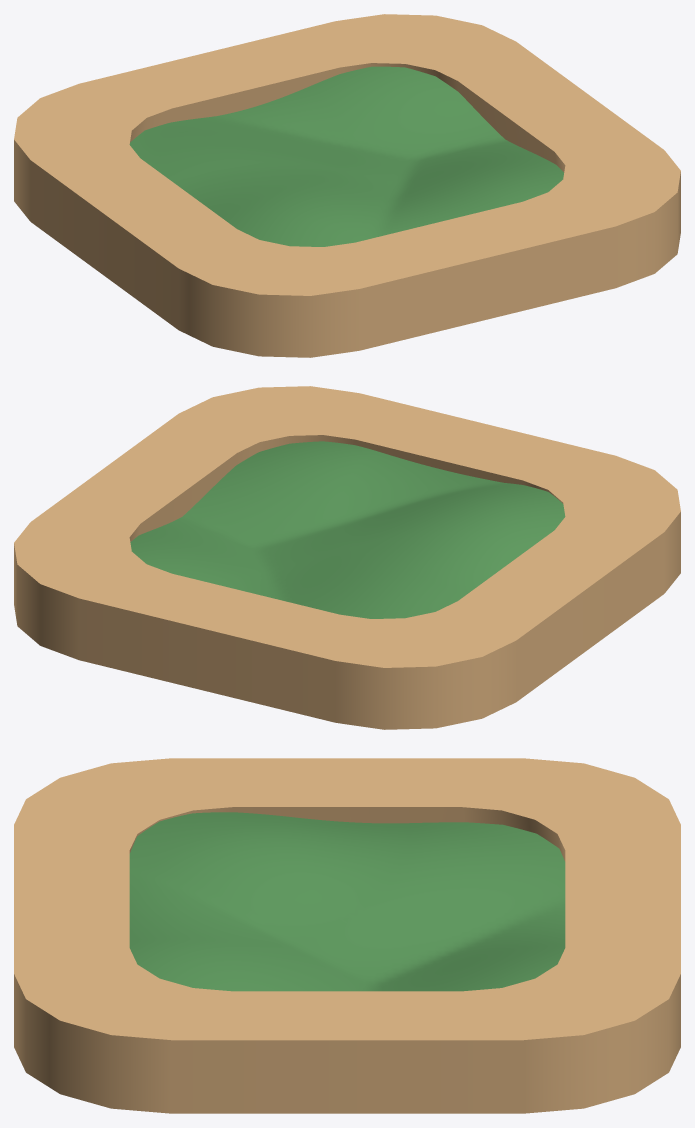
The model's file is Tree_Base_001.fbx.
3 renders of one model, top to bottom at view 1: azimuth 30°, elevation 25°; view 2: azimuth 150°, elevation 25°; view 3: azimuth 270°, elevation 25°, orthographic. The views are drawn at different scales.
Parts seen in each view (by area): view 1: Tree_Holder, Grass1; view 2: Tree_Holder, Grass1; view 3: Tree_Holder, Grass1.
Boxes of the visible parts, bbox=[...] form: Tree_Holder: bbox=[14, 14, 680, 357]; Grass1: bbox=[129, 66, 563, 246]; Tree_Holder: bbox=[14, 386, 680, 729]; Grass1: bbox=[130, 441, 565, 618]; Tree_Holder: bbox=[14, 758, 680, 1113]; Grass1: bbox=[129, 812, 565, 991].
Bounding box in the file's own units: 9.6 × 1.24 × 9.6.
